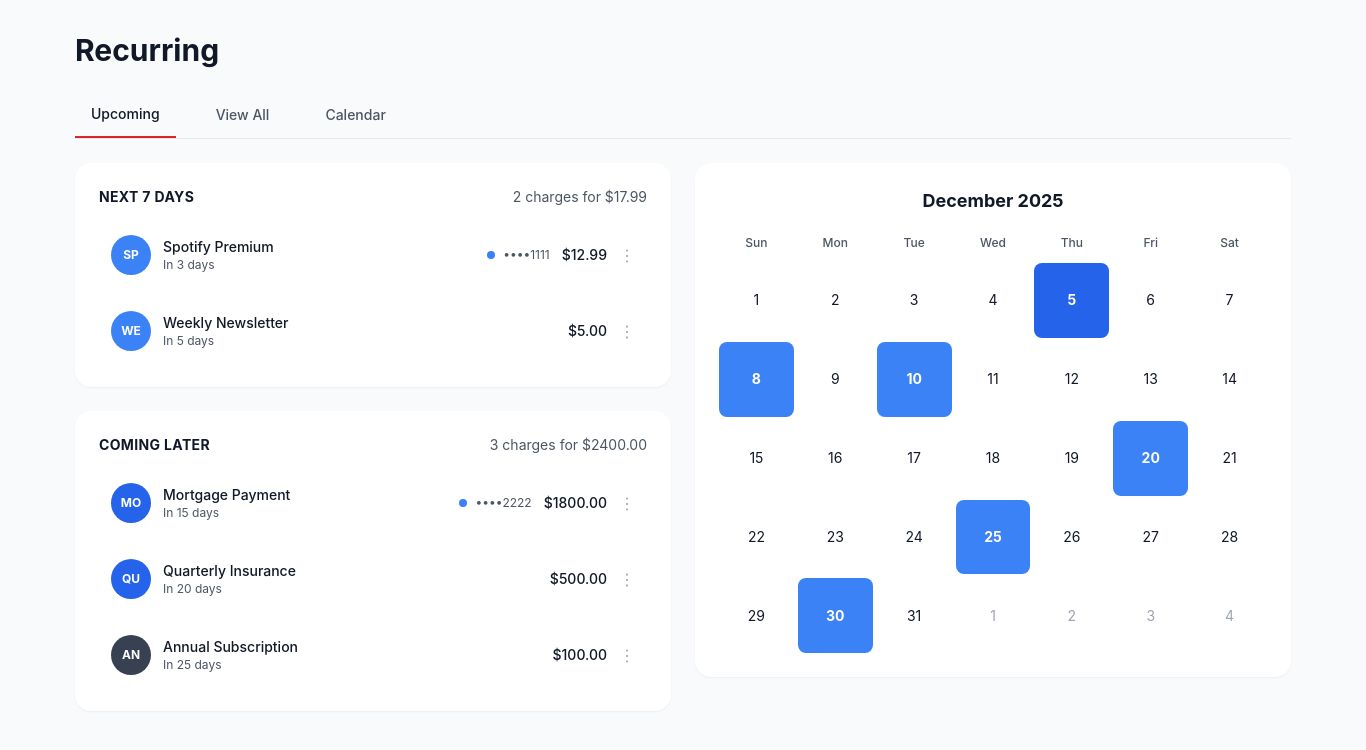
Test: Recurring page › filters subscriptions with search
Expected: the heading "Recurring" is shown, [75,32,219,68]
Click the button "View All" at coordinates (242, 115), box [200,92,285,138]
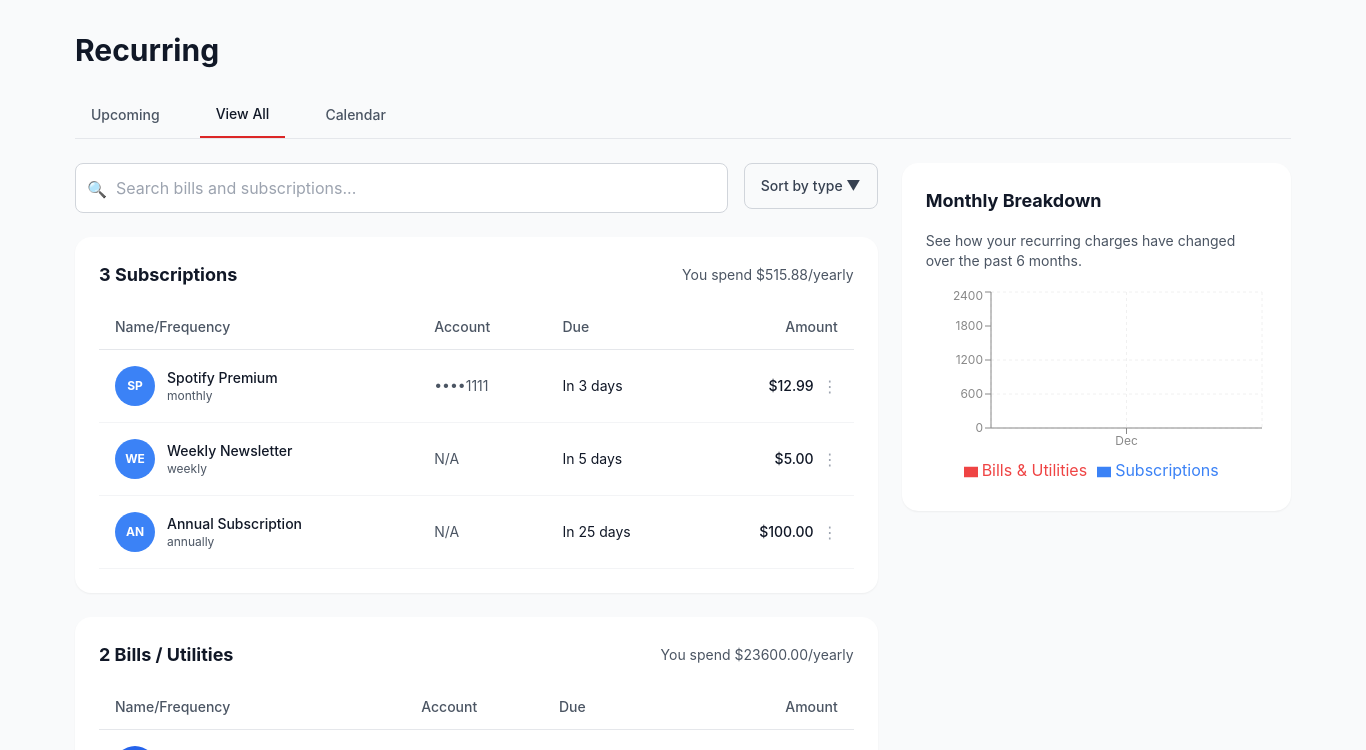
Now the field with placeholder "Search bills and subscriptions..." is shown
Type "mort" into the field with placeholder "Search bills and subscriptions..." at coordinates (401, 188), box [75,163,728,213]
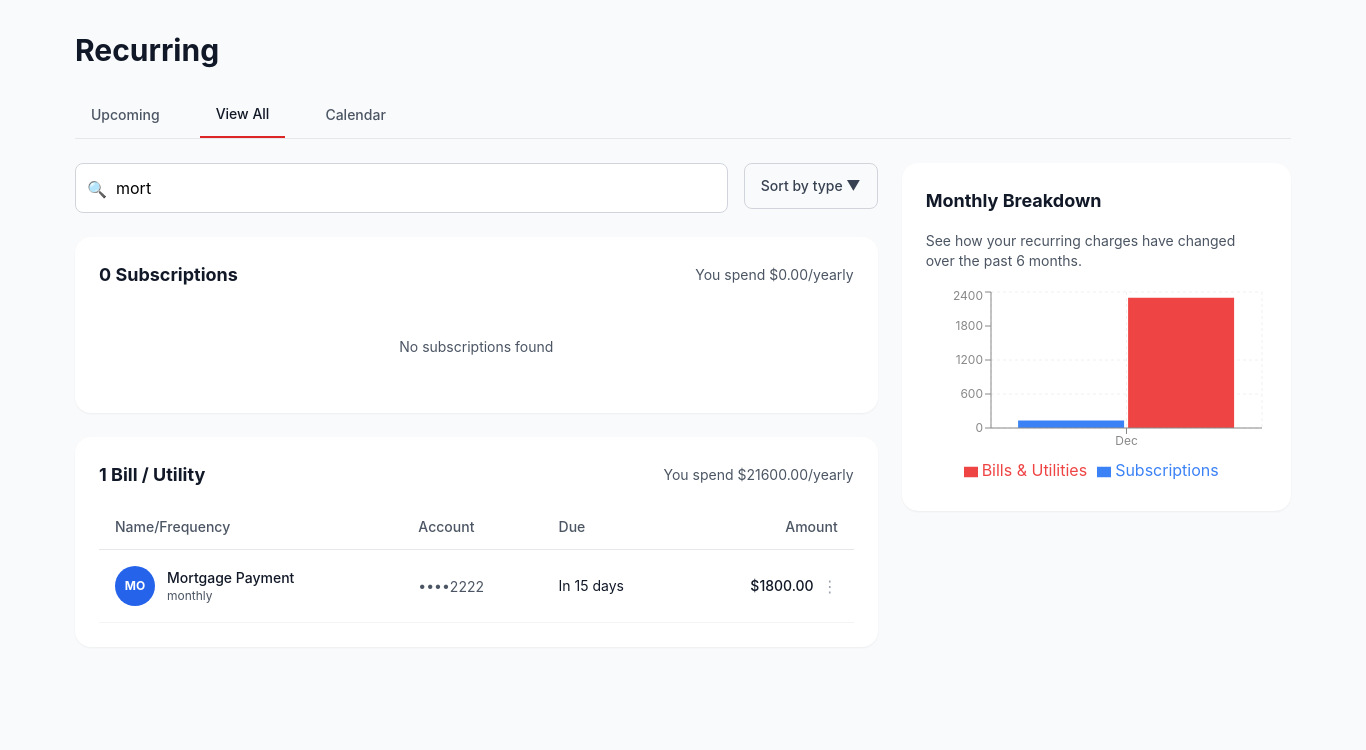
Expected: the text "Mortgage Payment" is shown, [167,568,294,588]
Now the text "Spotify Premium" is gone
